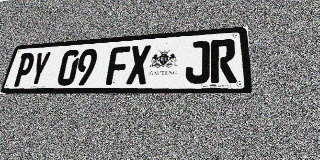0: (56, 49, 81, 86)
9: (74, 48, 98, 85)
F: (105, 46, 130, 85)
J: (185, 40, 210, 84)
P: (12, 53, 36, 86)
R: (210, 39, 237, 83)
X: (126, 45, 151, 85)
Y: (27, 51, 52, 86)
